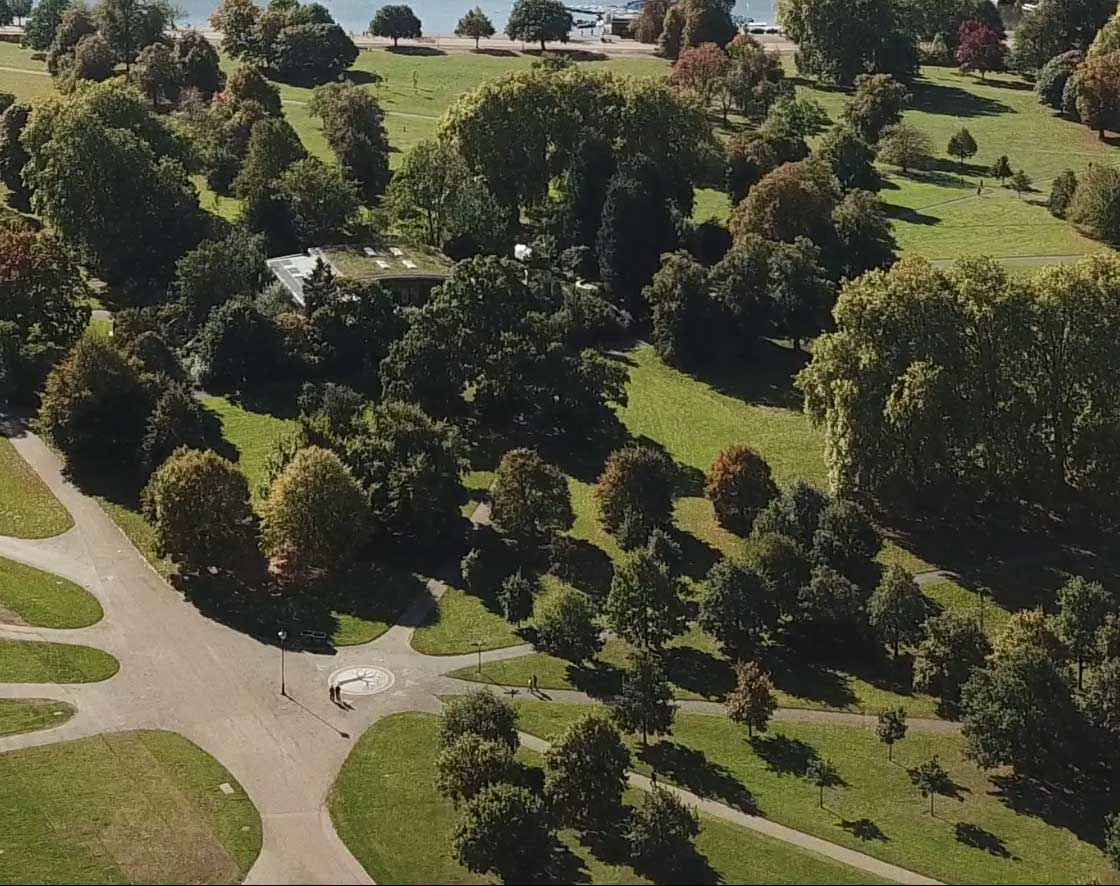road: (81, 601, 453, 784)
tree: (257, 441, 399, 593), (422, 699, 536, 865), (540, 712, 633, 829), (483, 445, 586, 549), (720, 652, 792, 772), (599, 652, 686, 750), (858, 566, 939, 669), (704, 435, 789, 531), (943, 18, 1019, 86), (442, 3, 503, 58), (907, 754, 953, 823), (868, 696, 912, 765), (798, 749, 843, 815), (937, 119, 988, 177), (361, 3, 427, 46)
trees: (431, 97, 868, 348), (831, 279, 1116, 493)
